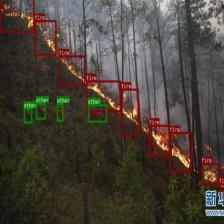fire: (0, 0, 34, 32), (86, 80, 120, 112), (170, 132, 192, 172), (121, 88, 138, 136), (59, 55, 85, 85), (34, 20, 56, 55), (148, 124, 170, 156), (201, 162, 219, 184), (219, 183, 224, 191)
